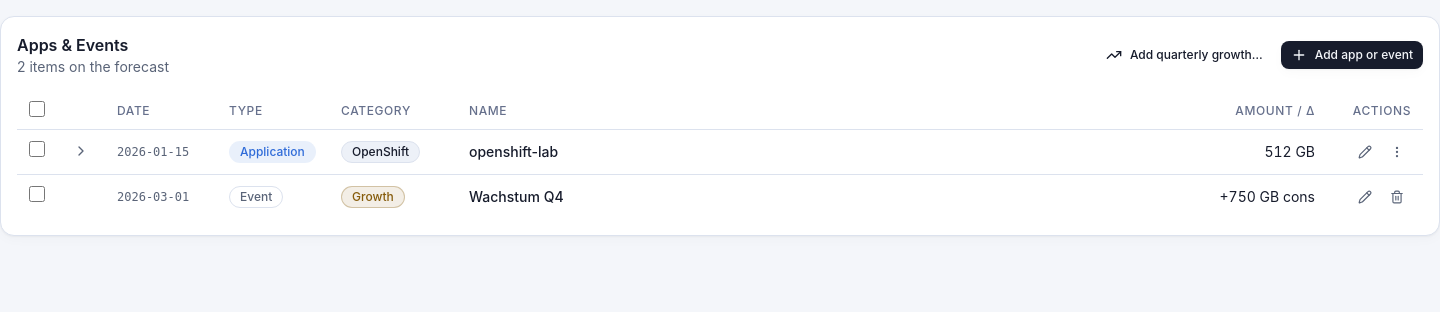
Test: ItemsTab — bulk date shift (#256) › reveals the action bar with a live count once a row is selected
The width and height of the screenshot is (1440, 312).
Check: the button "Shift dates" is not shown
Step 1. Click the checkbox named "Select openshift-lab" → [37, 149], box [29,141,45,157]
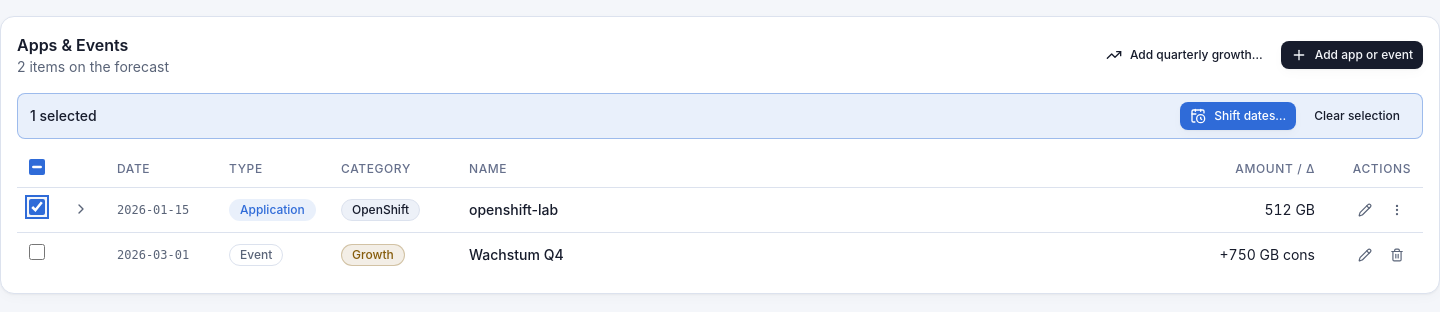
Check: the message reads "1 selected", box [30,106,97,126]
Check: the button "Shift dates…" is shown, box [1180,102,1296,130]
Step 2. Click the checkbox named "Select Wachstum Q4" → [37, 252], box [29,244,45,260]
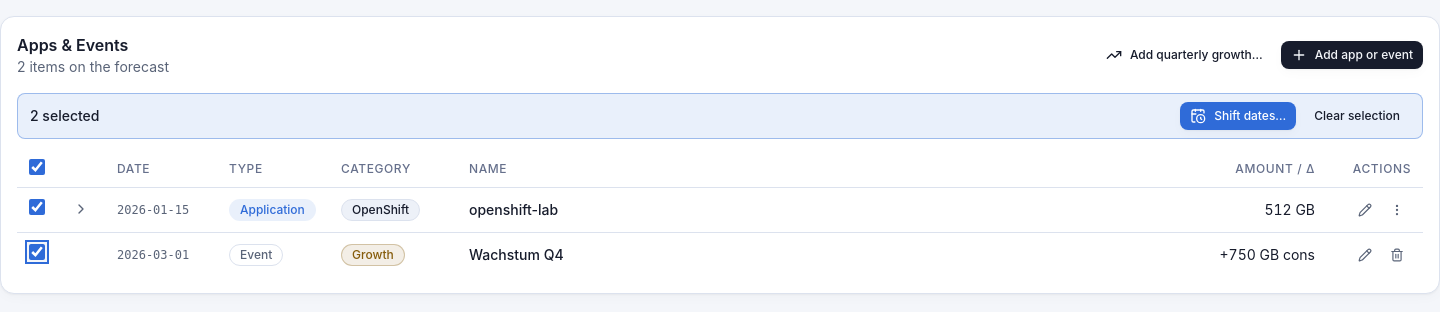
Check: the message reads "2 selected", box [30,106,100,126]
